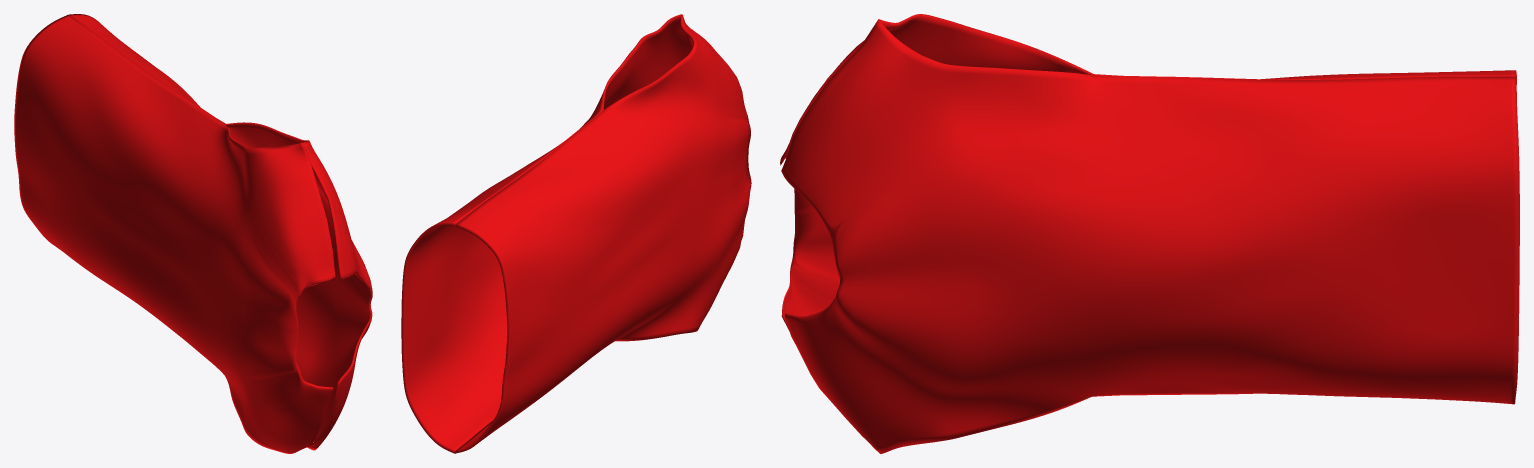
File: en52CMboy75CM_TShirtModel.glb
3 views of the same model, side by side, from view 1: azimuth 30°, elevation 25°; view 2: azimuth 150°, elevation 25°; view 3: azimuth 270°, elevation 25° (orthographic). The views are drawn at different scales.
Parts seen in each view (by area): view 1: Plane; view 2: Plane; view 3: Plane.
Part boxes in pixels (x1,y1,x2,y2): Plane: [14, 14, 372, 453]; Plane: [401, 14, 751, 453]; Plane: [780, 14, 1519, 453].
Size of the model in its own units: 0.2491 by 0.5675 by 0.8925.
